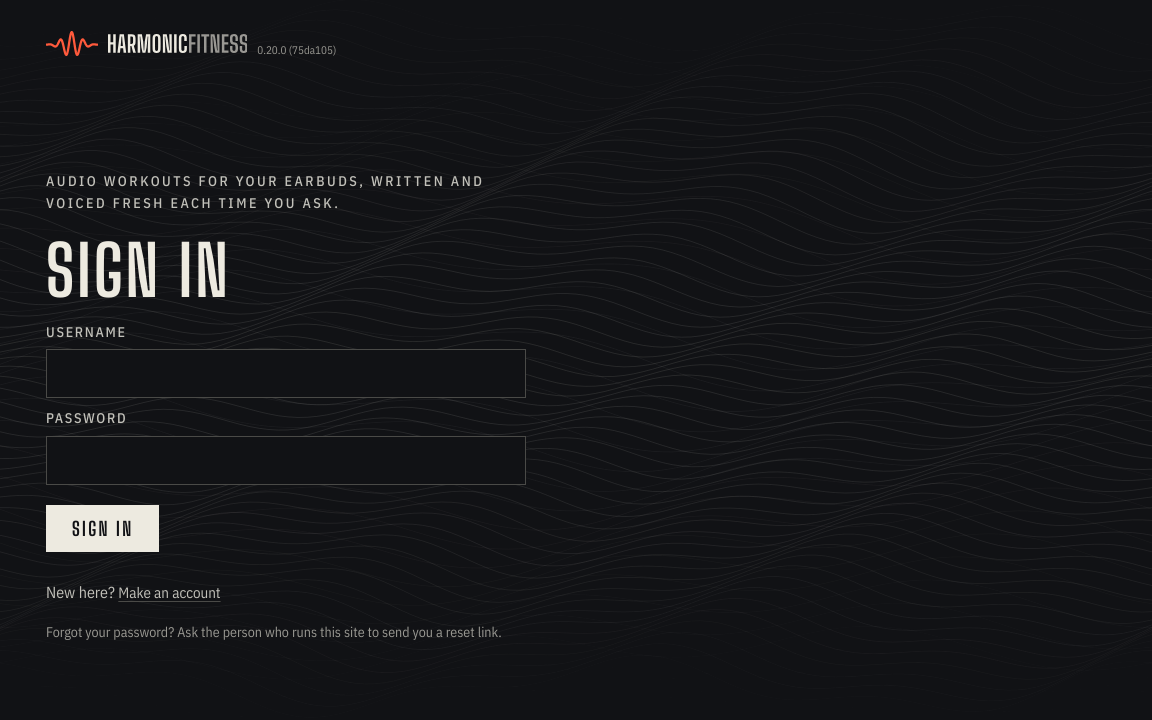
Scenario: the sign-in page › checks a new password's length before sending
The image size is (1152, 720).
Click the button "Make an account". click: click(169, 592)
box: [118,580,221,604]
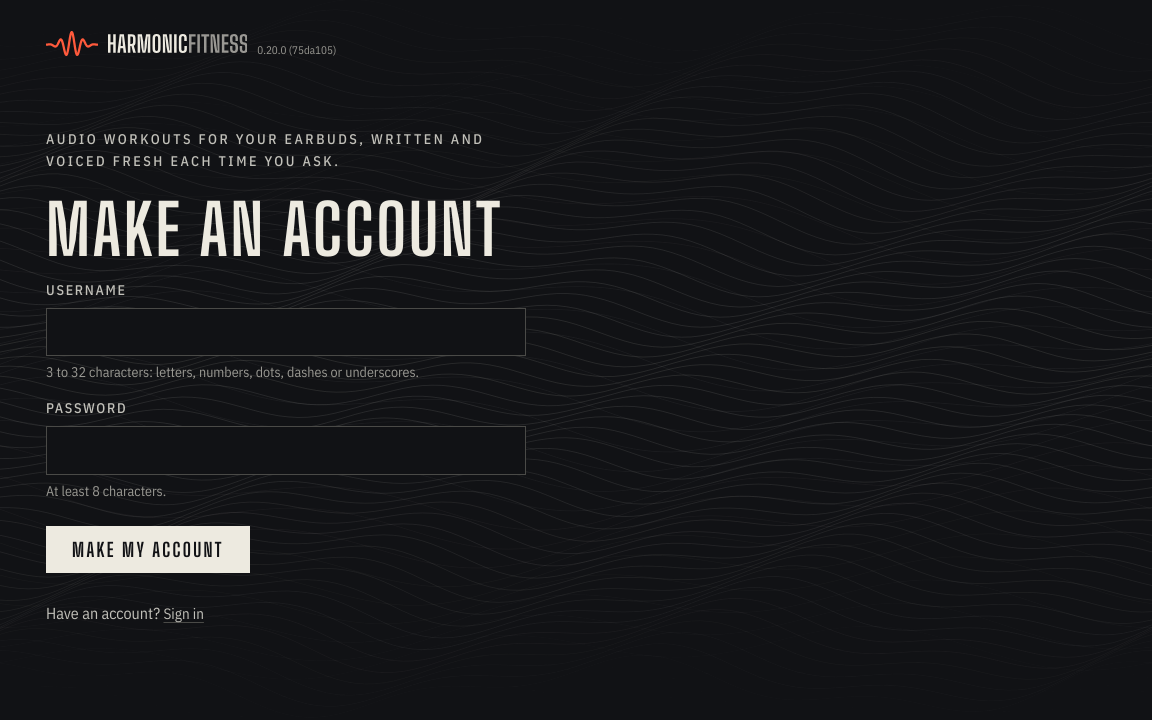
Type "ana" into the field labelled "Username". click: (286, 332)
box: [46,308,526,356]
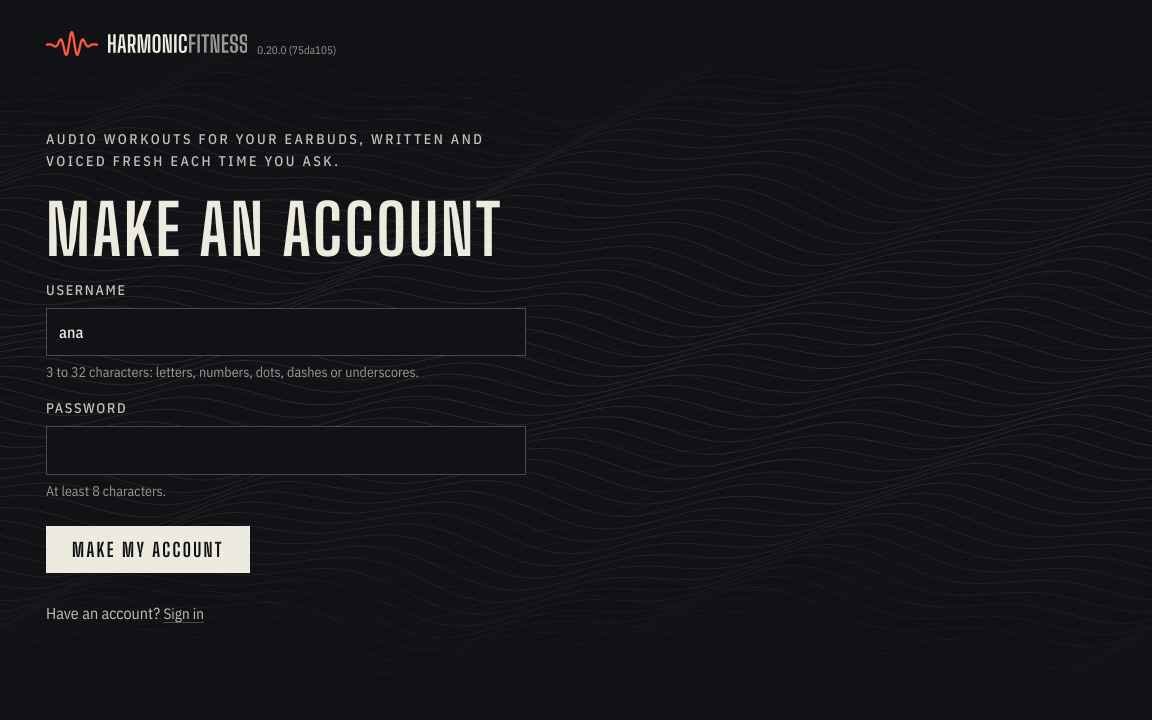
Type "short" into the password field labelled "Password". click: (286, 450)
box: [46,426,526,474]
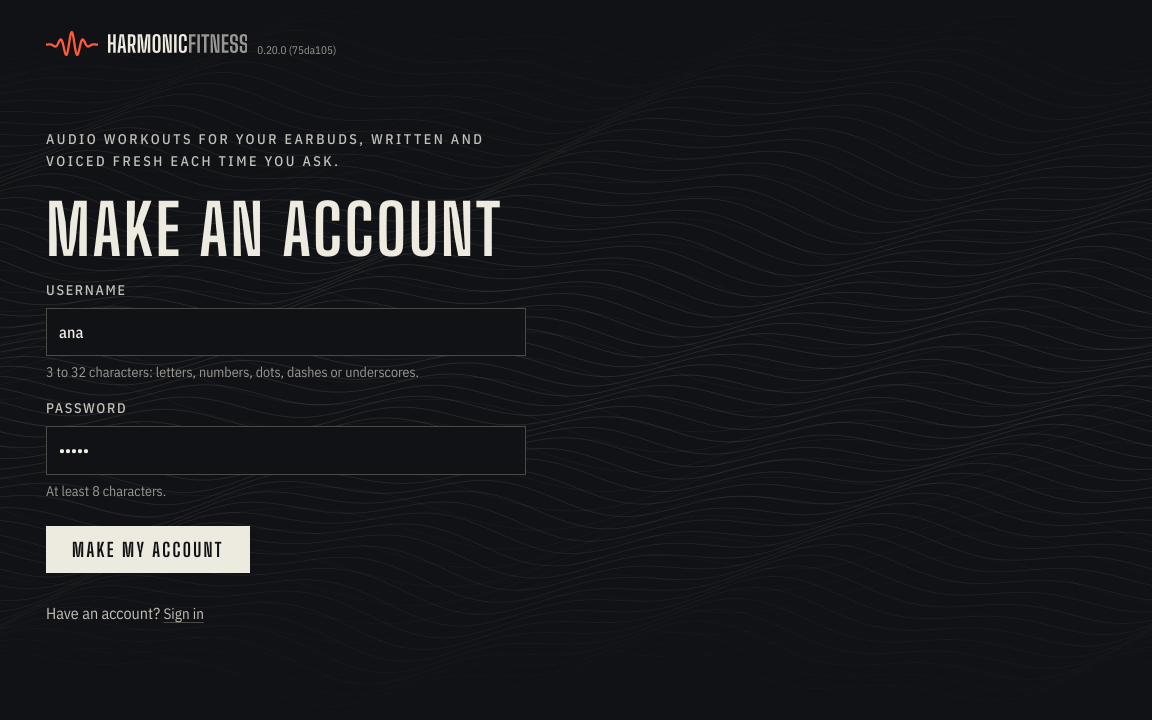
Click the button "Make my account". click: click(148, 550)
box: [46,526,250,573]
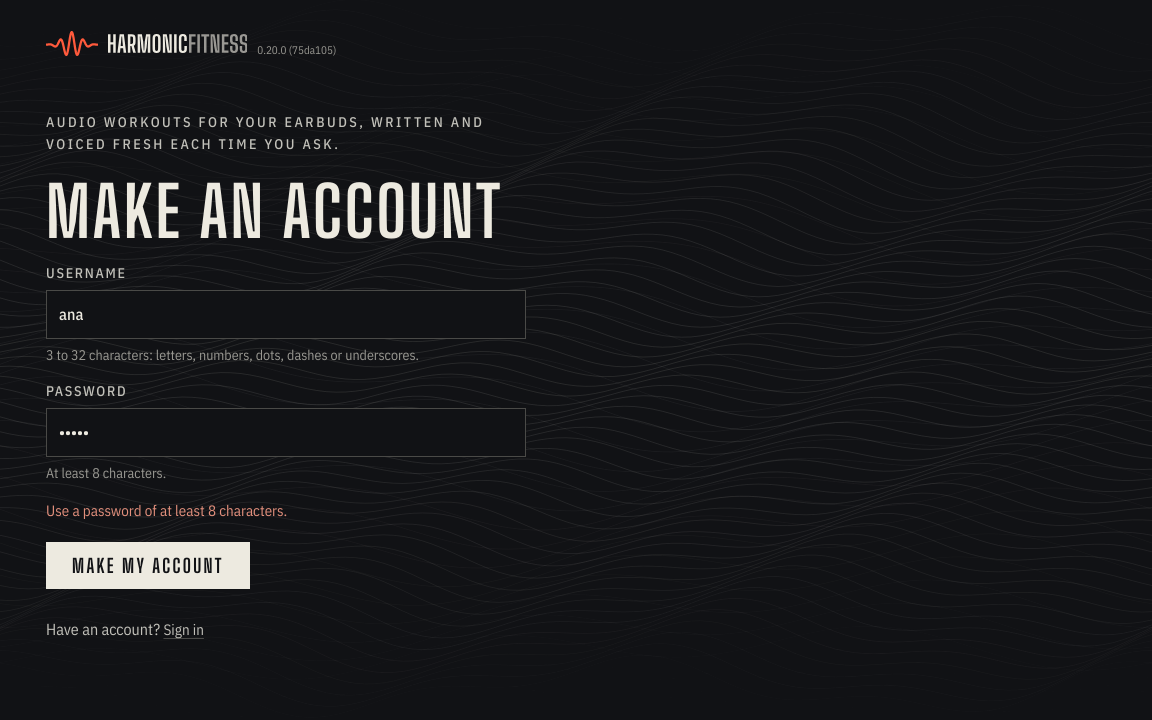
Now the message shows "at least 8 characters", box [46,501,287,520]
